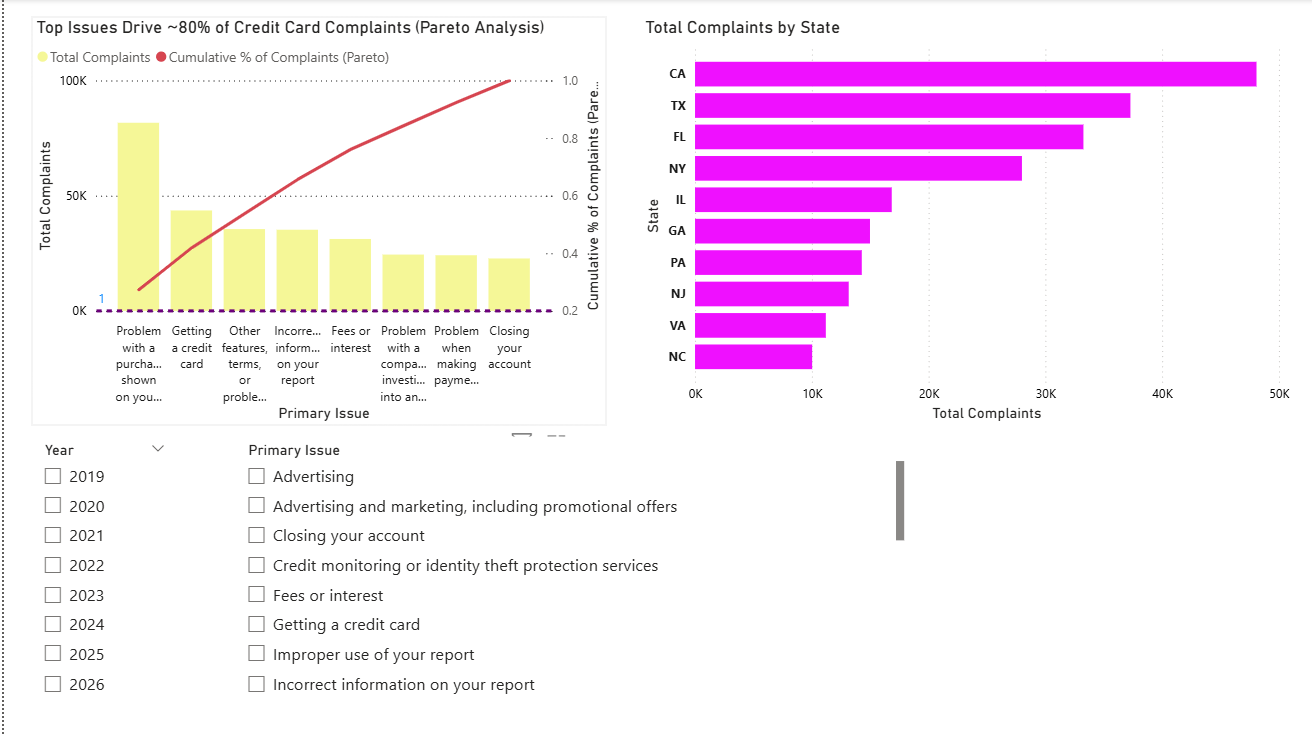

Layout of this report page (visuals, bound fields, positions):
{"tool":"powerbi","page":{"name":"Issue Analysis","canvas":[1280,720],"ordinal":1},"visuals":[{"type":"lineStackedColumnComboChart","title":"Top Issues Drive ~80% of Credit Card Complaints (Pareto Analysis)","fields":{"Category":["complaints.Primary Issue"],"Y":["complaints.Total Complaints"],"Y2":["complaints.Cumulative % of Complaints (Pareto)"]},"box":[27.2,16.5,562.2,400.7],"z":0},{"type":"clusteredBarChart","fields":{"Category":["complaints.State"],"Y":["complaints.Total Complaints"]},"box":[622.5,16.5,640,400.7],"z":1000},{"type":"slicer","fields":{"Values":["complaints.Complaint Date.Variation.Date Hierarchy.Year"]},"box":[27.2,428,143,274.3],"z":2000},{"type":"slicer","fields":{"Values":["complaints.Primary Issue"]},"box":[226.6,428.1,659.1,267.8],"z":3000}]}

Visuals, with their boxes in screenshot pixels (x1, y1, x2, y2), scaled from the page's 1280x720 canvas onto the 1312x735 screenshot:
"Top Issues Drive ~80% of Credit Card Complaints (Pareto Analysis)" lineStackedColumnComboChart: <bbox>28, 17, 604, 426</bbox>
clusteredBarChart - complaints.State x complaints.Total Complaints: <bbox>638, 17, 1294, 426</bbox>
slicer - complaints.Complaint Date.Variation.Date Hierarchy.Year: <bbox>28, 437, 174, 717</bbox>
slicer - complaints.Primary Issue: <bbox>232, 437, 908, 710</bbox>
